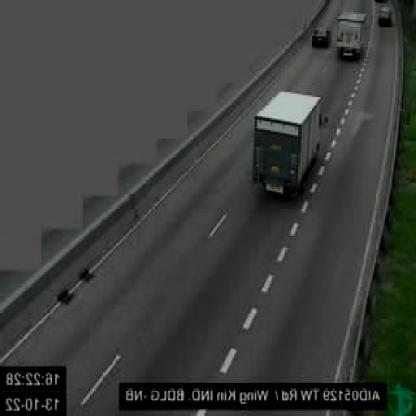Car: (311, 26, 331, 50), (378, 7, 392, 26)
Truck: (252, 89, 325, 199), (336, 11, 363, 62)
